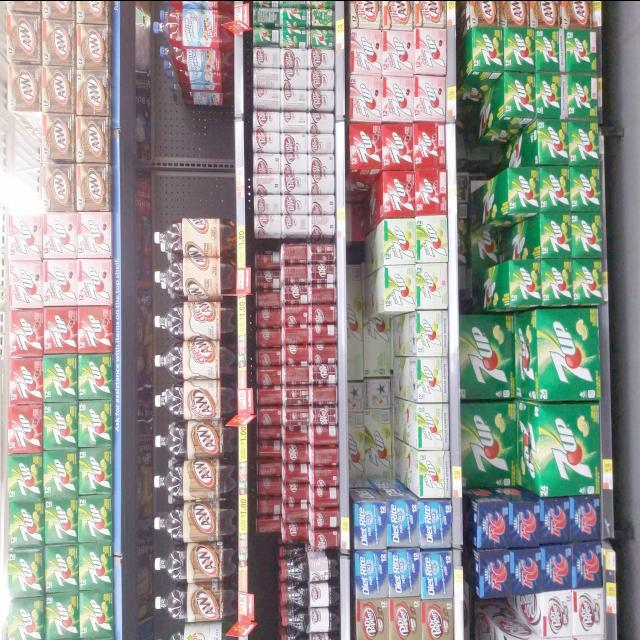empty_space: (147, 108, 226, 210)
